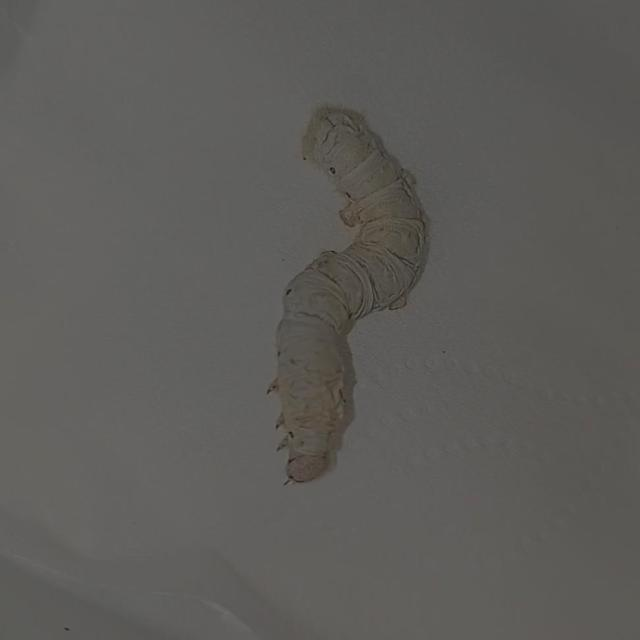Healthy: (236, 87, 435, 489)
